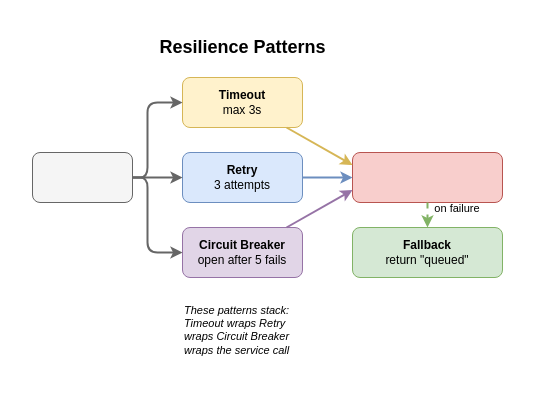
The diagram is 534 pixels wide and 394 high, and some of its shapes have lost their labels. The shapes that lost their labels are listed below. From the top down, each one's centre as x and y in pixels, then its label:
(x=82, y=177): Caller
(x=427, y=177): KitchenService (may fail)
